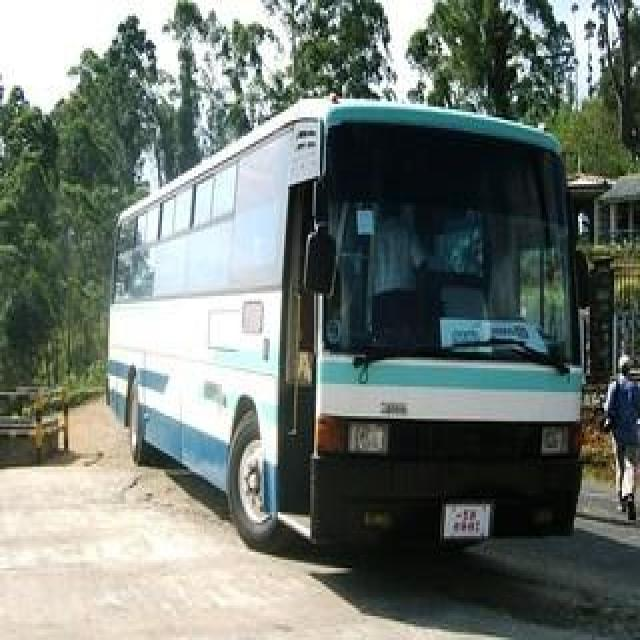Bus: (104, 93, 598, 572)
